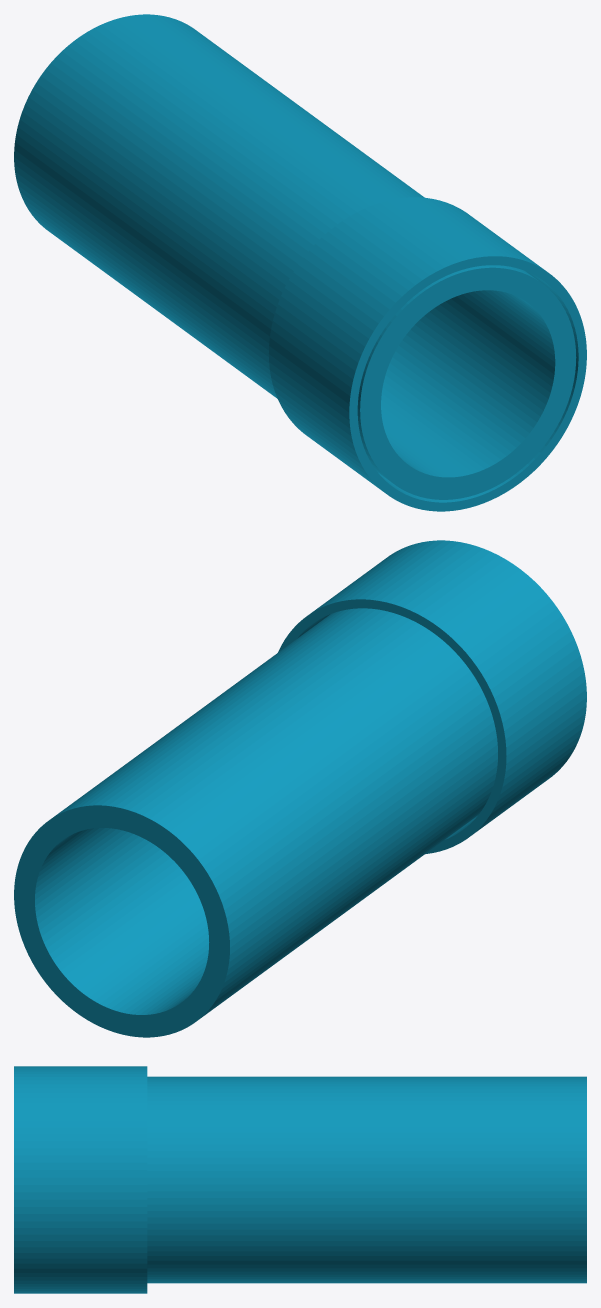
File: agua_bajante.glb
3 views of the same model, one above another, from view 1: azimuth 30°, elevation 25°; view 2: azimuth 150°, elevation 25°; view 3: azimuth 270°, elevation 25° (orthographic). The views are drawn at different scales.
Parts seen in each view (by area): view 1: world; view 2: world; view 3: world.
Part boxes in pixels (box(x1,y1,x2,y2)): world: box(14, 14, 586, 511); world: box(14, 540, 586, 1037); world: box(14, 1066, 586, 1293).
Size of the model in its own units: 34.1 by 34.1 by 86.
